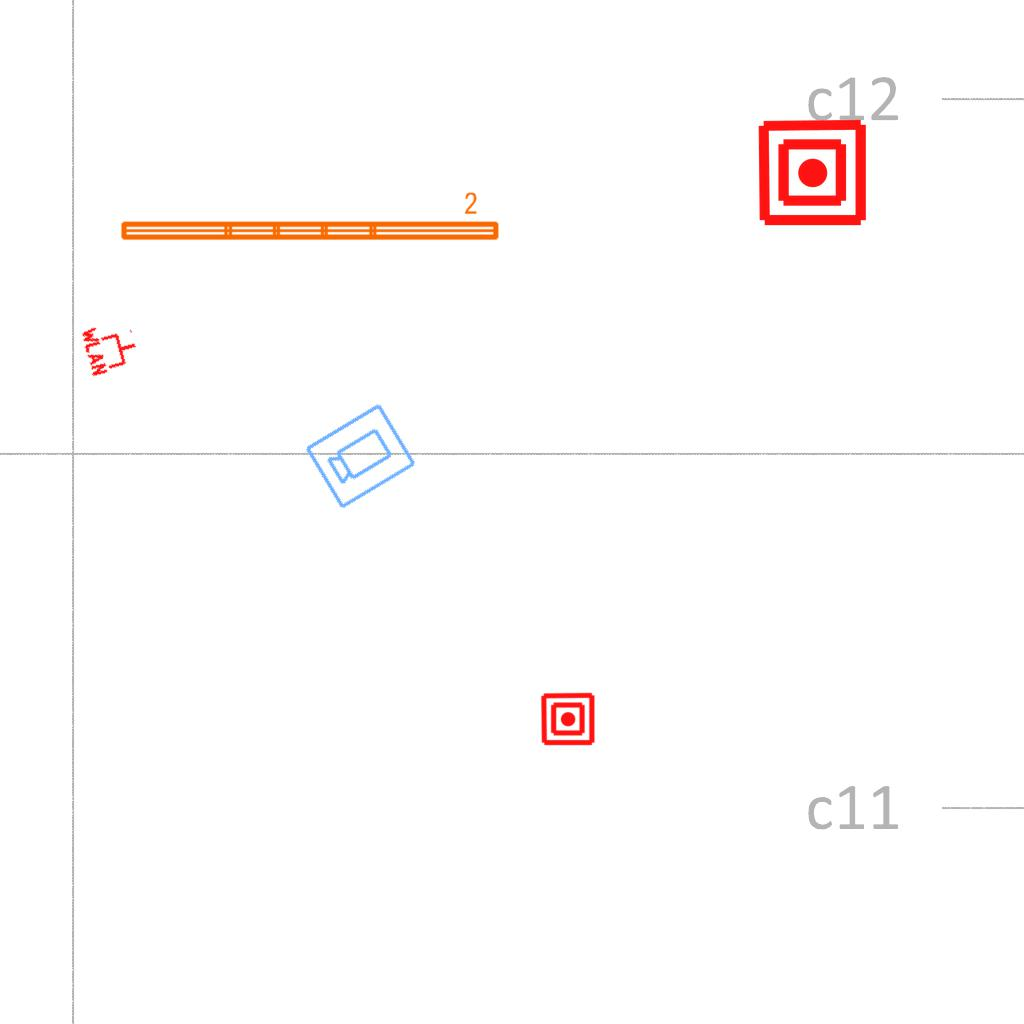Ambulanz_Pendelleuchte_LED: (116, 190, 503, 246)
KFO_Kamera_mit_Festobjektiv: (301, 399, 420, 512)
NAM-Nichtautomatischer_Melder: (756, 116, 869, 229), (540, 691, 596, 747)
WLAN: (79, 315, 143, 379)
